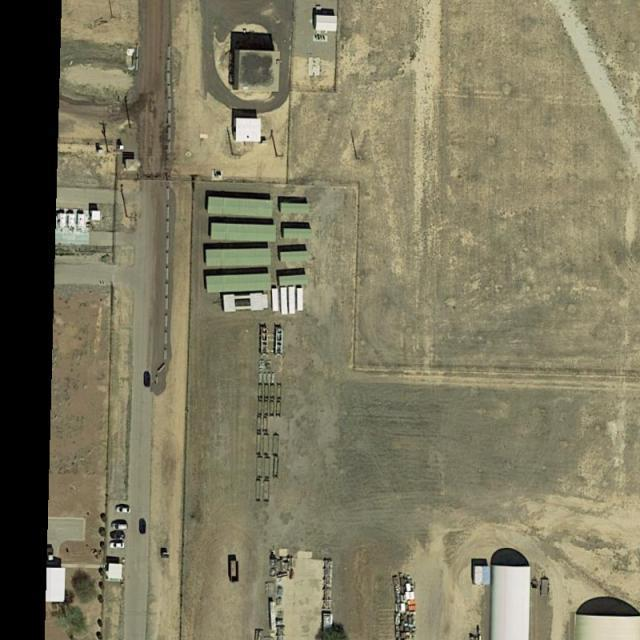vehicle: (116, 506, 131, 514), (112, 522, 127, 530), (111, 533, 125, 541), (140, 519, 146, 534), (110, 543, 125, 549)
